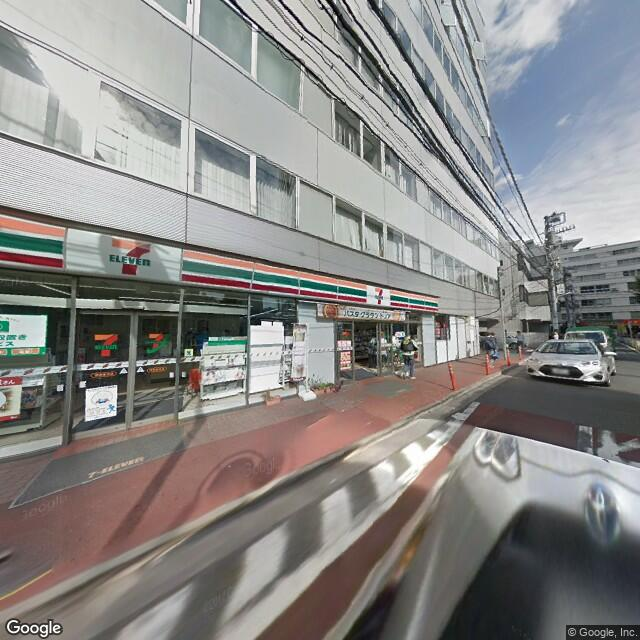7-eleven: (1, 207, 442, 315), (91, 326, 121, 362), (142, 329, 171, 359)
